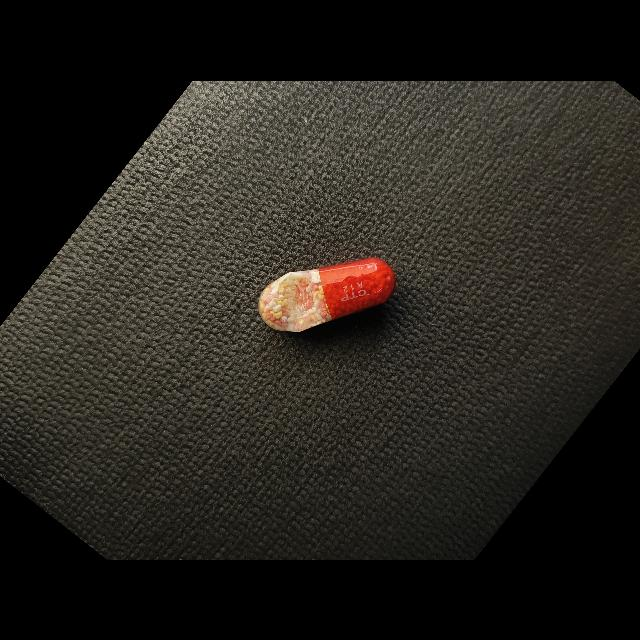Defective Capsule: (258, 257, 397, 332)
